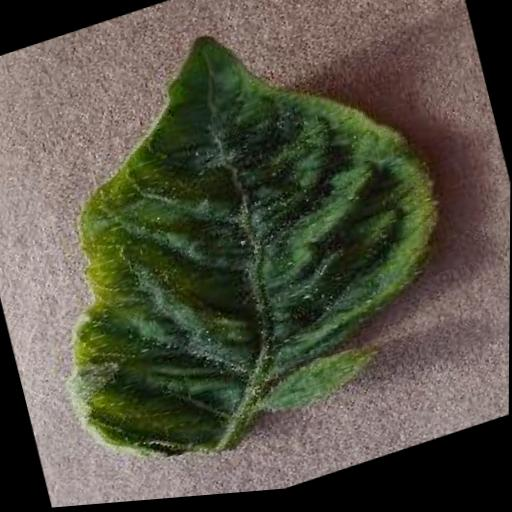Yellow Leaf Curl Virus: (0, 0, 486, 499)
